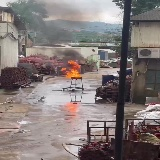fire: (61, 61, 82, 78)
